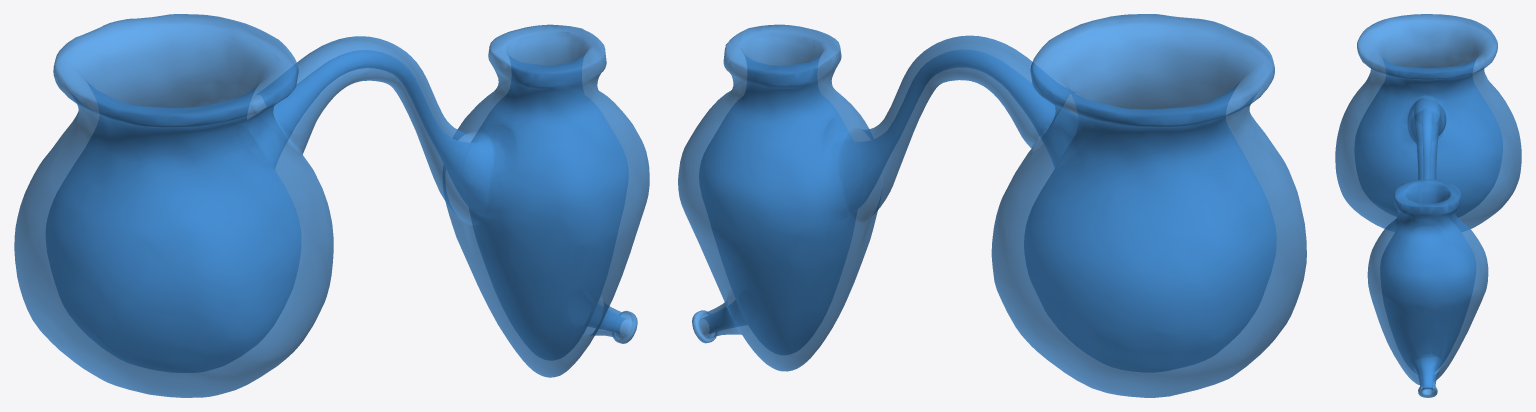
Rendered from GlassWareAlchemy.fbx.
3 renders of one model, left to right at view 1: azimuth 30°, elevation 25°; view 2: azimuth 150°, elevation 25°; view 3: azimuth 270°, elevation 25°, orthographic. The views are drawn at different scales.
Parts seen in each view (by area): view 1: lp; view 2: lp; view 3: lp.
Part boxes in pixels (box(x1,y1,x2,y2)): lp: box(14, 14, 649, 397); lp: box(678, 14, 1306, 397); lp: box(1335, 14, 1521, 397).
Size of the model in its own units: 358 by 231 by 166.
